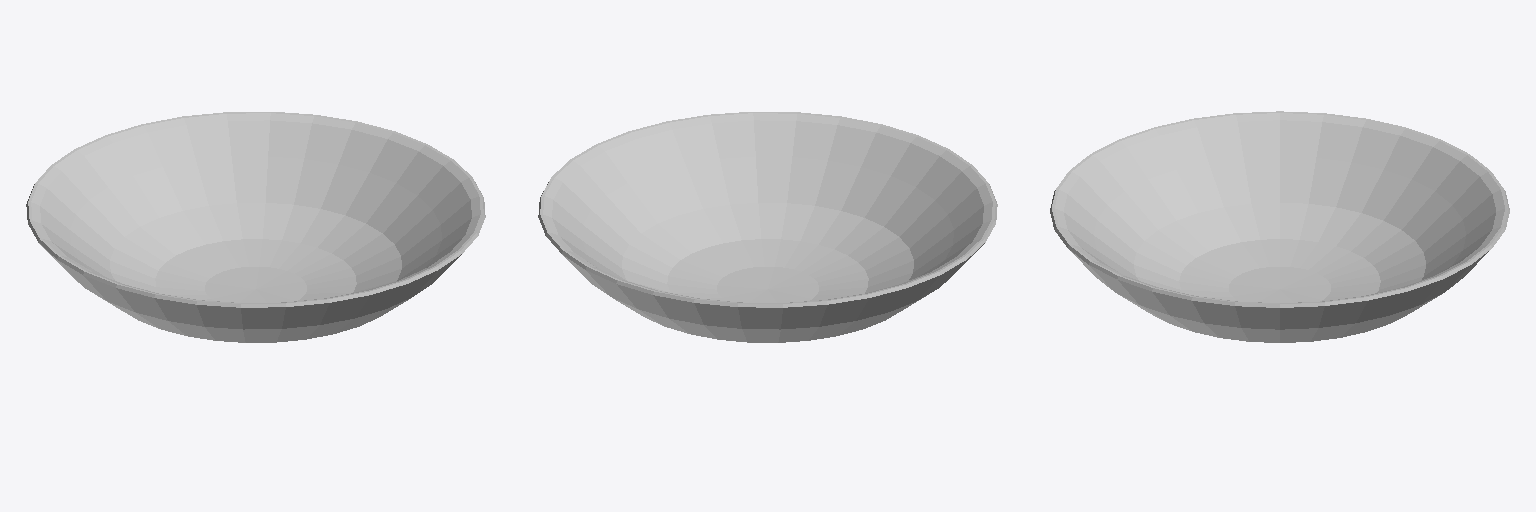
The model's file is bowl.obj.
3 renders of one model, left to right at view 1: azimuth 30°, elevation 25°; view 2: azimuth 150°, elevation 25°; view 3: azimuth 270°, elevation 25°, orthographic.
Visible parts, largest first — view 1: Sphere; view 2: Sphere; view 3: Sphere.
Part boxes in pixels (left/top/right/bottom): Sphere: left=26, top=112, right=485, bottom=342; Sphere: left=538, top=112, right=997, bottom=342; Sphere: left=1050, top=111, right=1509, bottom=342.
Bounding box in the file's own units: 1.31 × 0.3033 × 1.31.